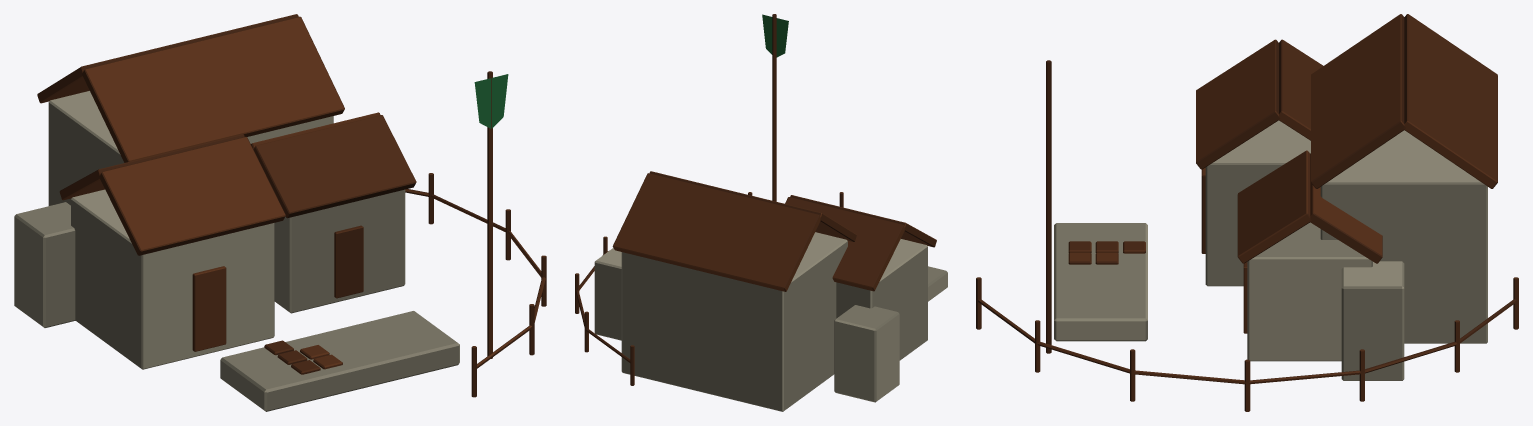
File: edificio-b_002-e2-h1JIzTjP.glb
3 views of the same model, side by side, from view 1: azimuth 30°, elevation 25°; view 2: azimuth 150°, elevation 25°; view 3: azimuth 270°, elevation 25° (orthographic). The views are drawn at different scales.
Parts seen in each view (by area): view 1: edificio_b_002_e2_detalles, edificio_b_002_e2_envolvente, edificio_b_002_e2_team_color; view 2: edificio_b_002_e2_envolvente, edificio_b_002_e2_detalles, edificio_b_002_e2_team_color; view 3: edificio_b_002_e2_envolvente, edificio_b_002_e2_detalles.
Boxes of the visible parts, <box> form: edificio_b_002_e2_detalles: <box>37,14,546,397</box>; edificio_b_002_e2_envolvente: <box>14,91,459,411</box>; edificio_b_002_e2_team_color: <box>474,74,508,128</box>; edificio_b_002_e2_envolvente: <box>594,232,947,411</box>; edificio_b_002_e2_detalles: <box>575,14,936,385</box>; edificio_b_002_e2_team_color: <box>762,14,788,57</box>; edificio_b_002_e2_envolvente: <box>1054,120,1487,380</box>; edificio_b_002_e2_detalles: <box>976,14,1518,411</box>.
Size of the model in its own units: 47.23 by 31 by 51.88.
Materials: 3 (3 with a texture image).
